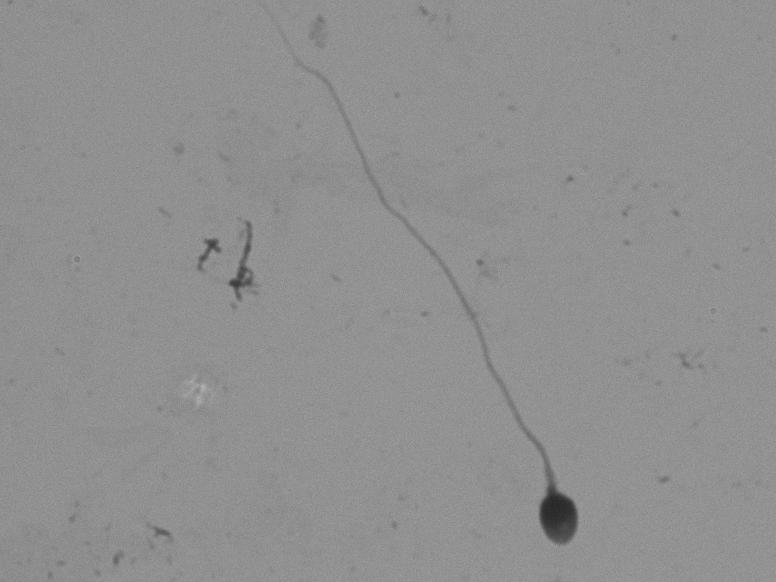Normal: (269, 17, 622, 561)
